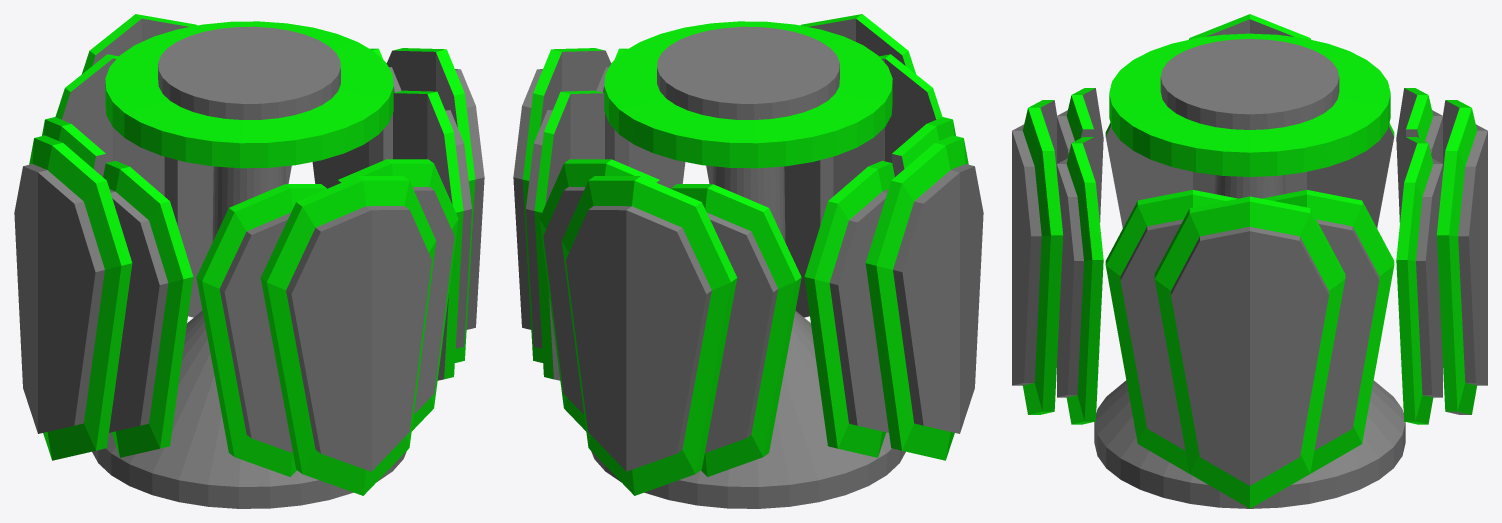
Rendered from barrier_upgraded.fbx.
3 renders of one model, left to right at view 1: azimuth 30°, elevation 25°; view 2: azimuth 150°, elevation 25°; view 3: azimuth 270°, elevation 25°, orthographic. The views are drawn at different scales.
Parts seen in each view (by area): view 1: Circle; view 2: Circle; view 3: Circle.
Boxes of the visible parts, x1,y1,x2,y2 form: Circle: (14, 14, 484, 508); Circle: (513, 14, 983, 508); Circle: (1012, 14, 1487, 508).
Bounding box in the file's own units: 266 × 226 × 266.
1 material, 1 textured.
